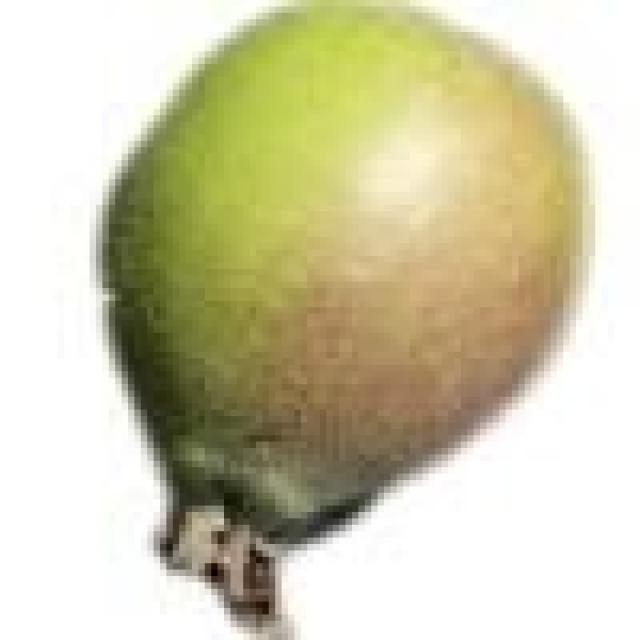Rotten Apple: (96, 0, 602, 640)
